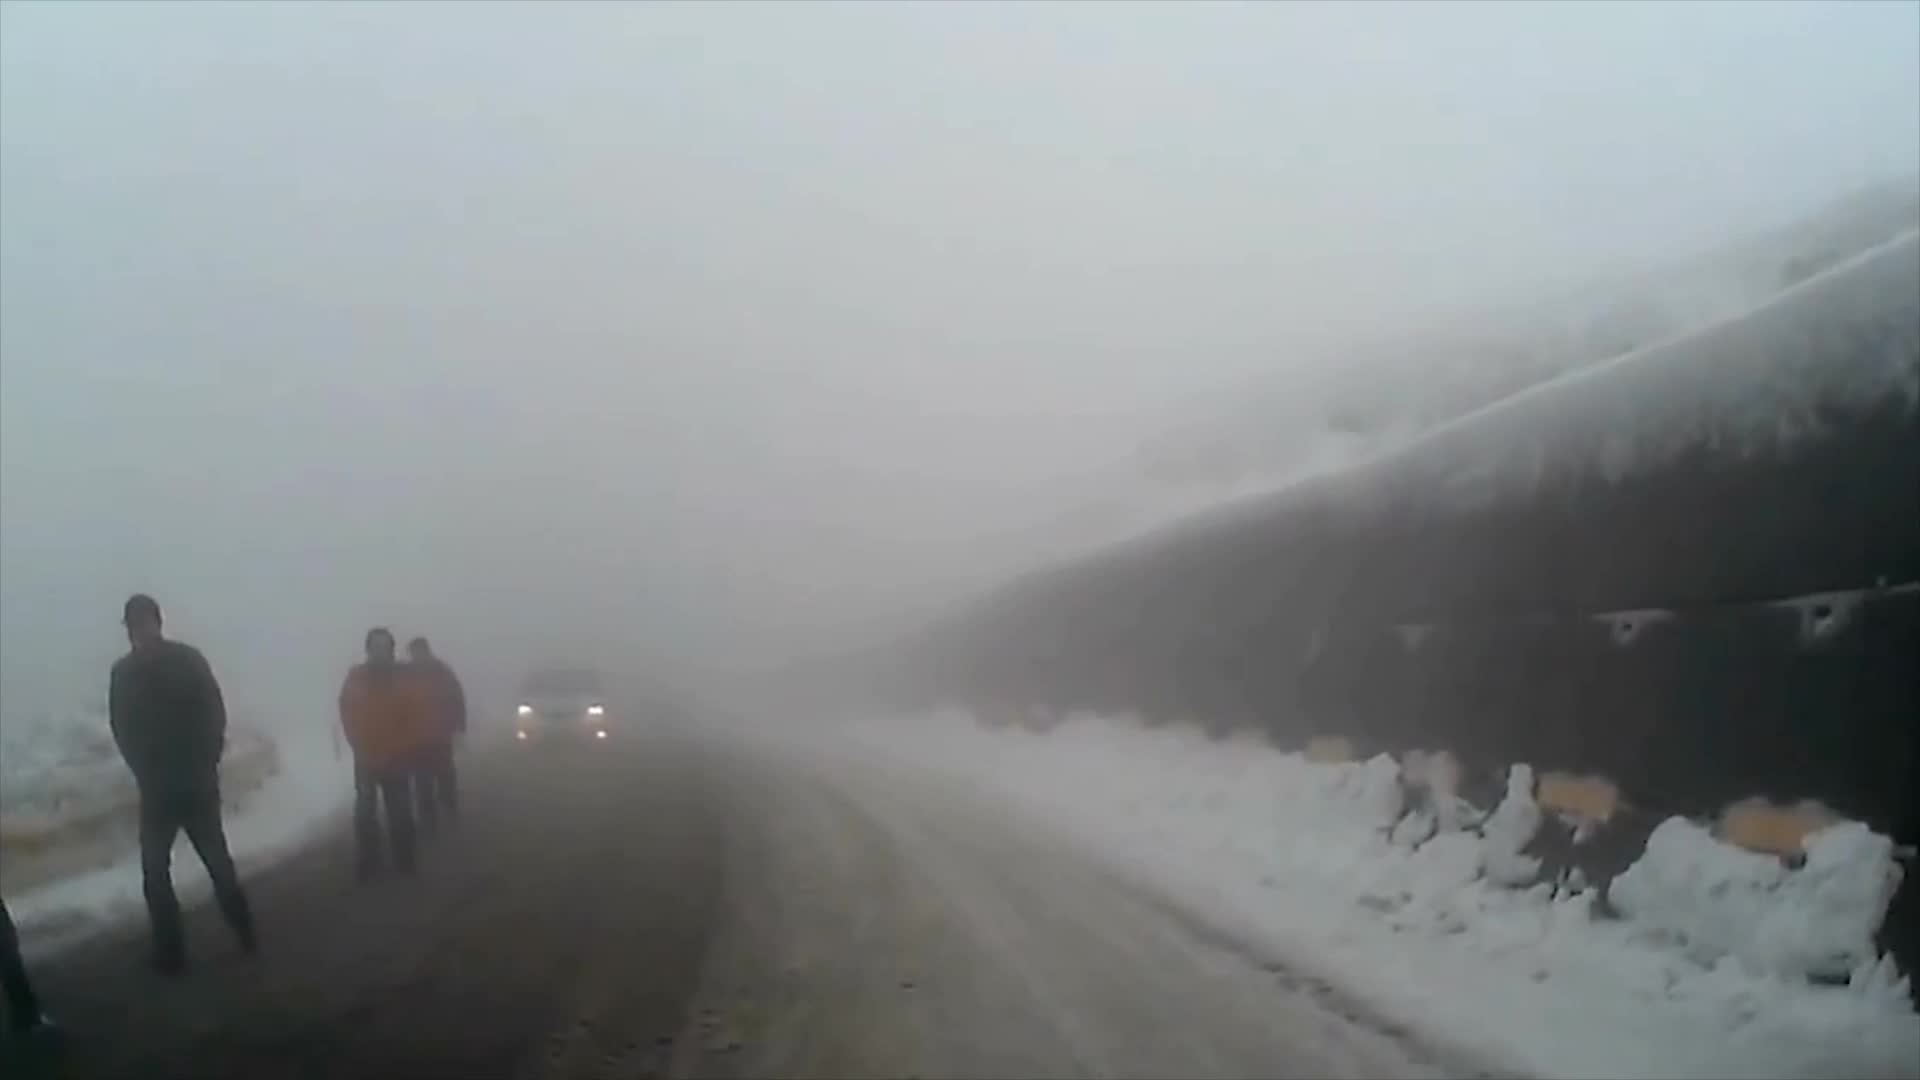pedestrian: (106, 595, 258, 976), (1, 630, 74, 1035), (330, 621, 428, 876), (386, 627, 469, 855)
vehicle: (508, 666, 610, 759), (511, 680, 613, 773)
